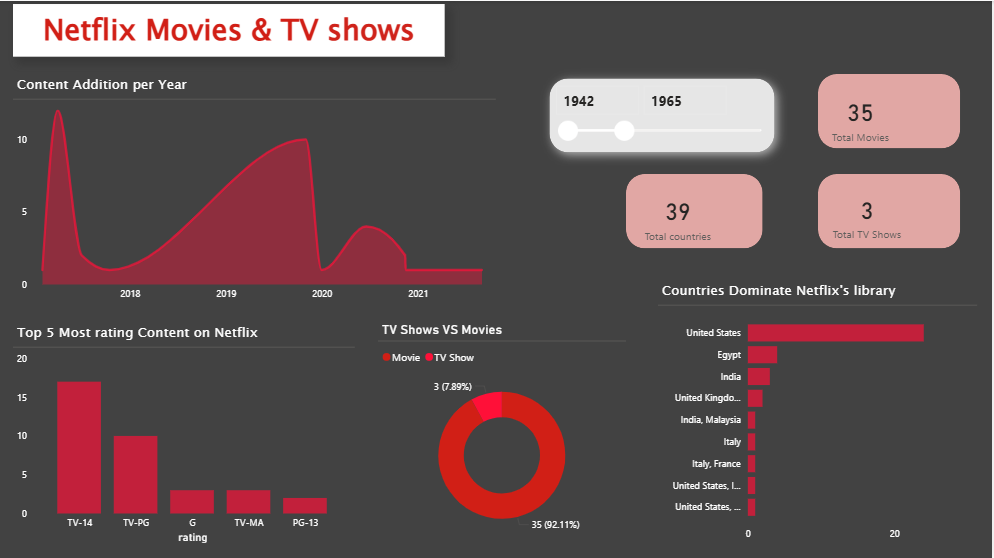

The dashboard page shown, as its layout file describes it:
{"tool":"powerbi","page":{"name":"Page 1","canvas":[1280,720],"ordinal":0},"visuals":[{"type":"shape","box":[1055.5,223.2,184.3,96.5],"z":0},{"type":"shape","box":[807.8,223.2,177.1,96.5],"z":1000},{"type":"shape","box":[1055.5,93.6,184.3,96.5],"z":2000},{"type":"shape","box":[691.7,82.2,324.6,130.4],"z":3000},{"type":"lineChart","title":"Content Addition per Year","fields":{"Category":["NETFLIX  Movies & TV Shows Dataset.date_added"],"Y":["CountNonNull(NETFLIX  Movies & TV Shows Dataset.show_id)"]},"box":[16.8,94.1,623.2,300.7],"z":4000},{"type":"donutChart","title":"TV Shows VS Movies ","fields":{"Category":["NETFLIX  Movies & TV Shows Dataset.type"],"Y":["CountNonNull(NETFLIX  Movies & TV Shows Dataset.show_id)"]},"box":[488.2,414.7,319.7,289.4],"z":5000},{"type":"clusteredBarChart","title":"Countries Dominate Netflix''s library","fields":{"Category":["NETFLIX  Movies & TV Shows Dataset.country"],"Y":["CountNonNull(NETFLIX  Movies & TV Shows Dataset.type)"]},"box":[849.6,360,411.8,344.2],"z":6000},{"type":"clusteredColumnChart","title":"Top 5 Most rating Content on Netflix","fields":{"Category":["NETFLIX  Movies & TV Shows Dataset.rating"],"Y":["CountNonNull(NETFLIX  Movies & TV Shows Dataset.type)"]},"box":[17.3,414.7,440.6,289.4],"z":7000},{"type":"card","fields":{"Values":["CountNonNull(NETFLIX  Movies & TV Shows Dataset.type)"]},"box":[1010.9,99.4,200.2,103.7],"z":8000},{"type":"card","fields":{"Values":["CountNonNull(NETFLIX  Movies & TV Shows Dataset.type)"]},"box":[1025.3,223.2,185.8,106.6],"z":9000},{"type":"card","fields":{"Values":["CountNonNull(NETFLIX  Movies & TV Shows Dataset.country)"]},"box":[783.4,223.2,182.9,110.9],"z":10000},{"type":"slicer","fields":{"Values":["NETFLIX  Movies & TV Shows Dataset.release_year"]},"box":[704.4,99.2,299.1,85],"z":11000},{"type":"textbox","box":[17,4.3,557,68],"z":12000}]}

Visuals, with their boxes in screenshot pixels (x1, y1, x2, y2), scaled from the page's 1280x720 canvas onto the 994x558 screenshot:
shape: locate(820, 173, 963, 248)
shape: locate(627, 173, 765, 248)
shape: locate(820, 73, 963, 147)
shape: locate(537, 64, 789, 165)
"Content Addition per Year" lineChart: locate(13, 73, 497, 306)
"TV Shows VS Movies " donutChart: locate(379, 321, 627, 546)
"Countries Dominate Netflix''s library" clusteredBarChart: locate(660, 279, 980, 546)
"Top 5 Most rating Content on Netflix" clusteredColumnChart: locate(13, 321, 356, 546)
card - CountNonNull(NETFLIX  Movies & TV Shows Dataset.type): locate(785, 77, 940, 157)
card - CountNonNull(NETFLIX  Movies & TV Shows Dataset.type): locate(796, 173, 940, 256)
card - CountNonNull(NETFLIX  Movies & TV Shows Dataset.country): locate(608, 173, 750, 259)
slicer - NETFLIX  Movies & TV Shows Dataset.release_year: locate(547, 77, 779, 143)
textbox: locate(13, 3, 446, 56)
